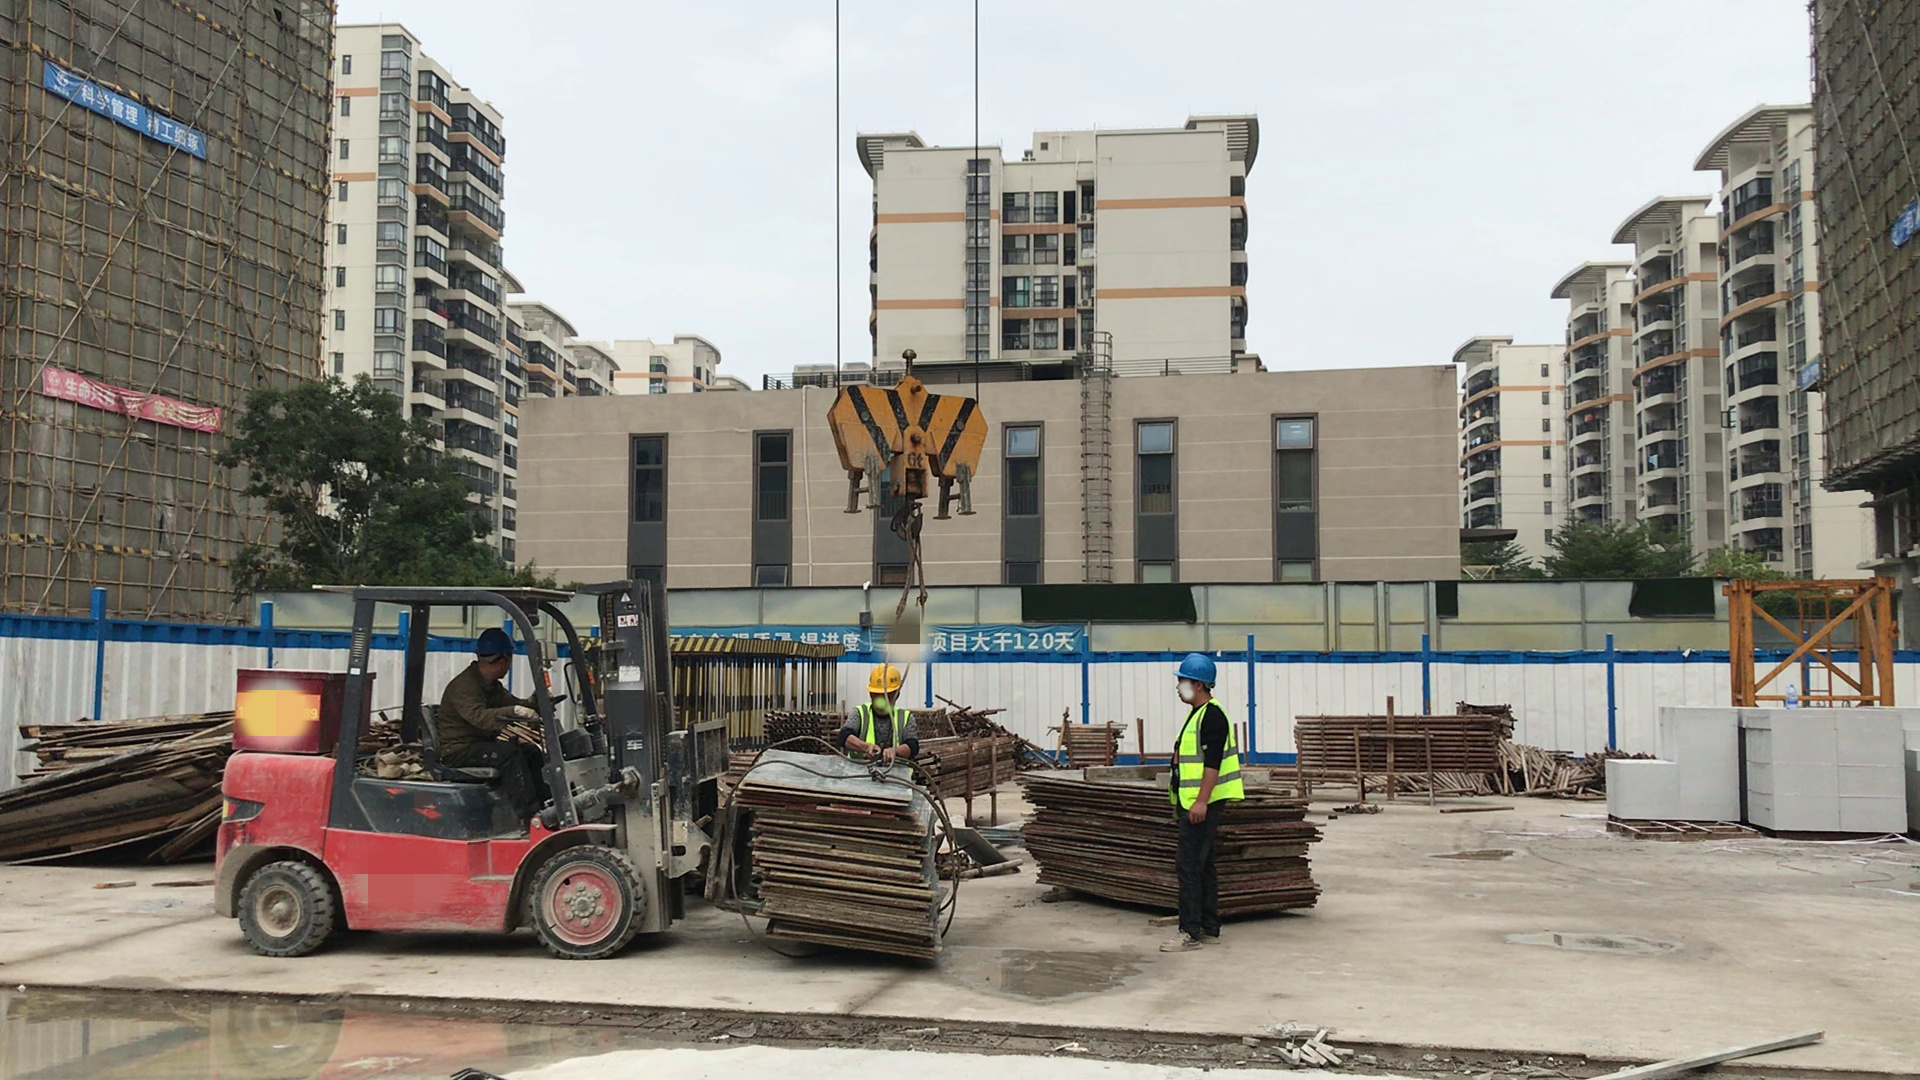board: (743, 747, 944, 961), (1036, 770, 1320, 911)
brick: (1746, 708, 1906, 841), (1602, 704, 1743, 827)
helmet: (1174, 646, 1213, 685), (478, 624, 516, 662), (867, 662, 900, 695)
hook: (832, 350, 989, 542)
person: (433, 629, 548, 833), (1167, 653, 1246, 950), (838, 665, 923, 765)
slogan: (785, 629, 1082, 660)
vest: (1170, 697, 1244, 814)
